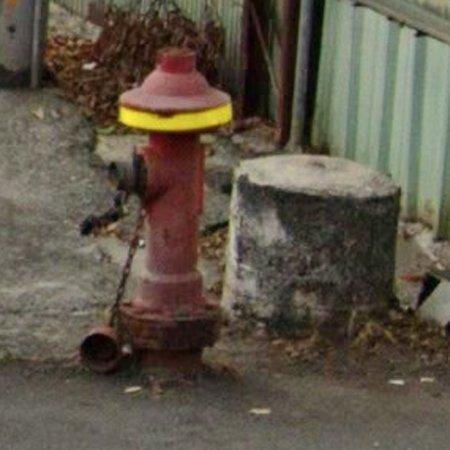a fire hydrant: (119, 46, 232, 352)
